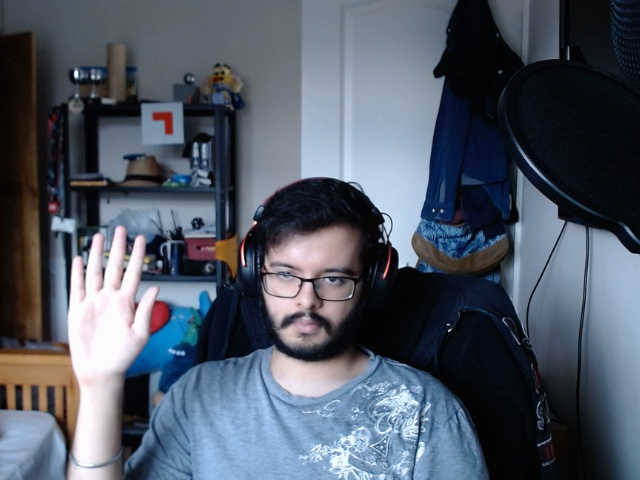Hello: (53, 217, 163, 397)
